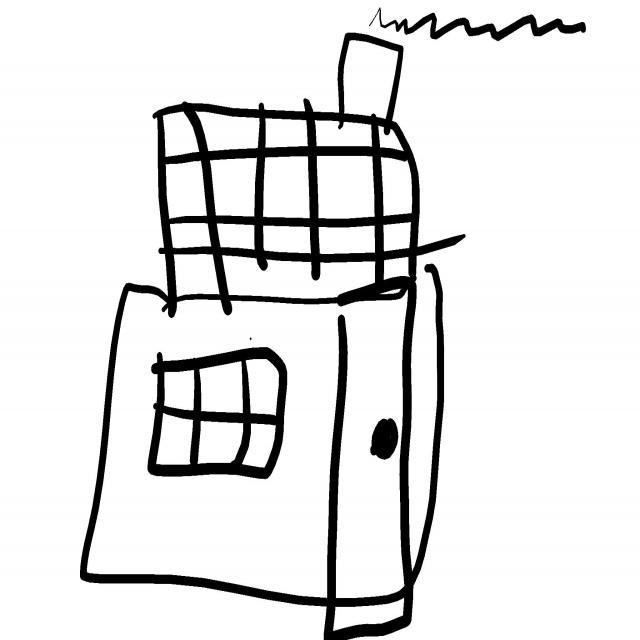chimney: (339, 32, 404, 122)
door: (335, 283, 410, 629)
house: (80, 35, 464, 640)
roof: (146, 97, 418, 295)
wall: (80, 264, 441, 605)
window: (148, 348, 287, 480)
